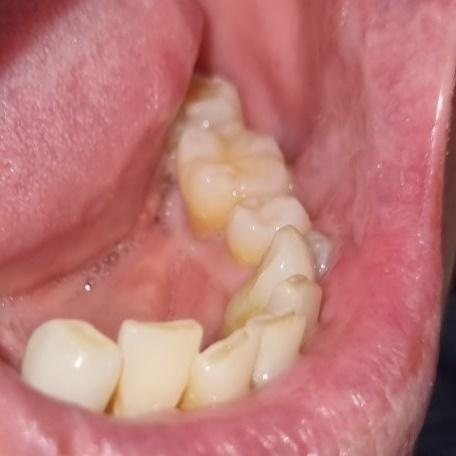Crowding: (119, 315, 258, 412)
